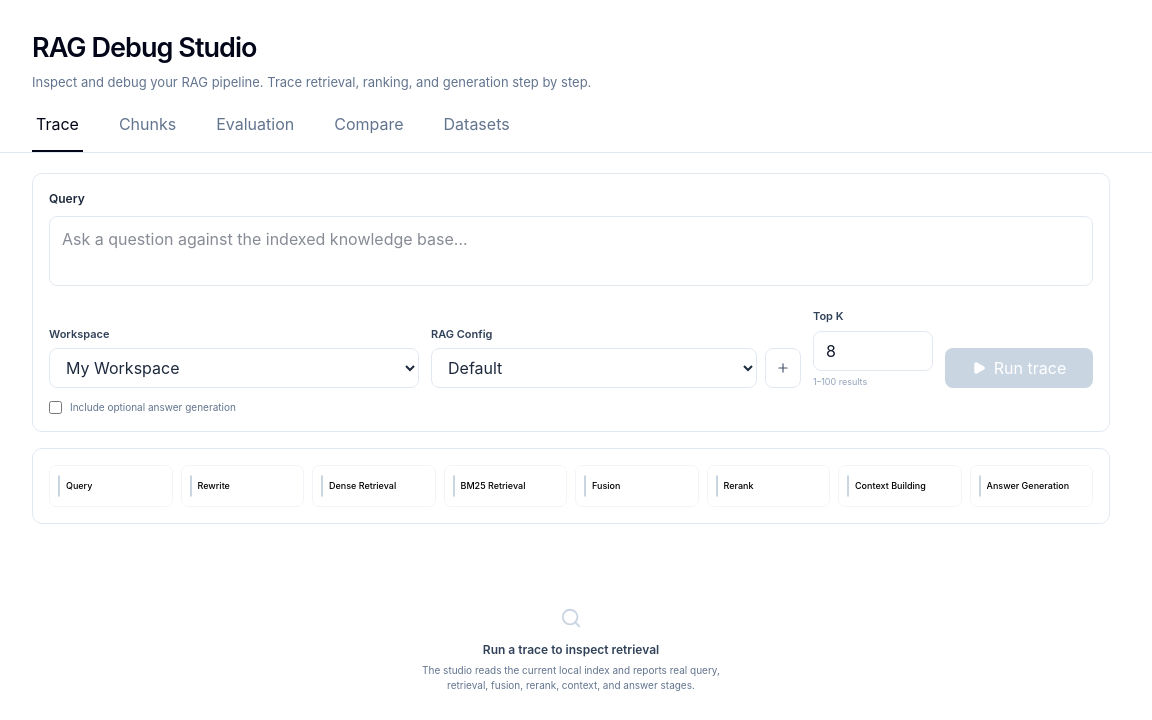
Test: RagDebugStudio › runs a comparison and renders returned query details
This screenshot has width=1152, height=720.
Click the button "Compare" at (369, 132), box x1=330 y1=112 x2=408 y2=152
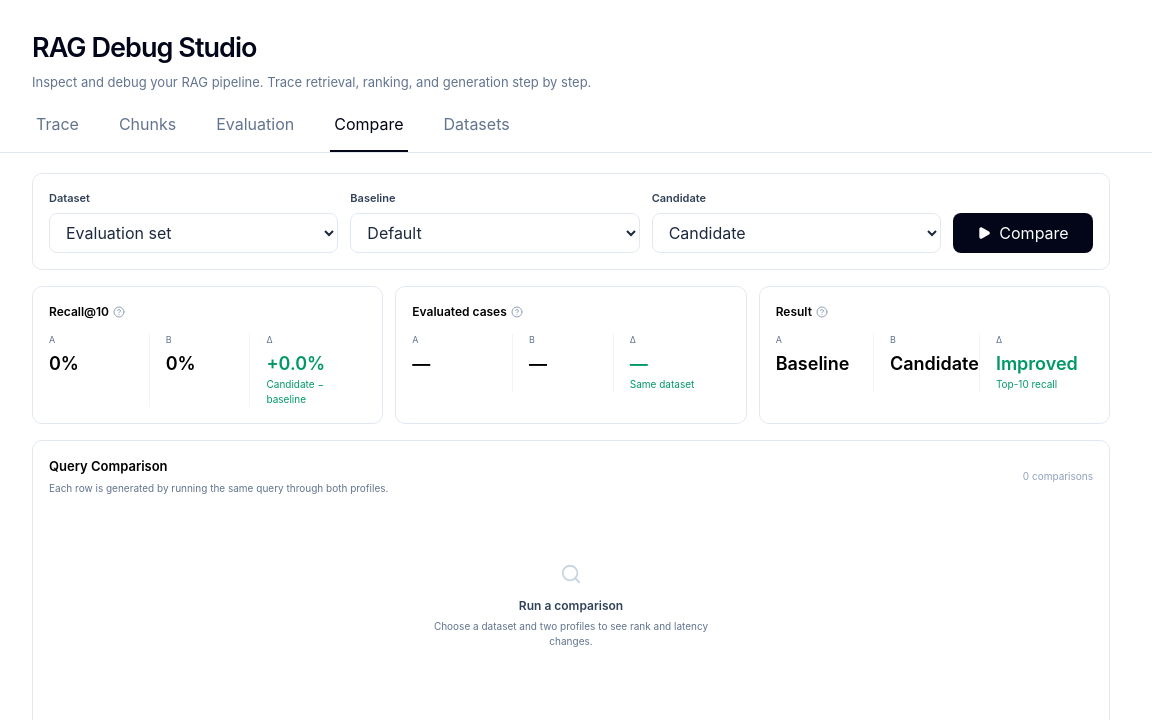
Now the 2nd button "Compare" is enabled
Now the heading "Query Comparison" is shown, box x1=49 y1=458 x2=168 y2=474
Click the 2nd button "Compare" at (1023, 232), box x1=953 y1=212 x2=1093 y2=252
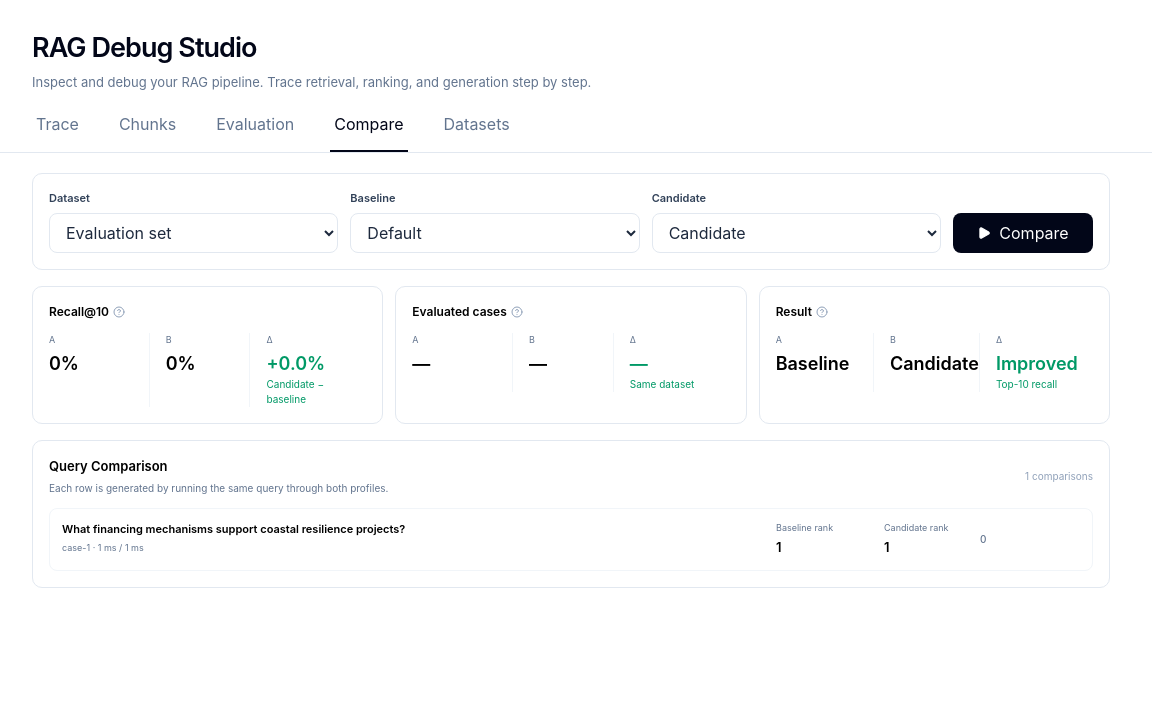
Now the text "What financing mechanisms support coastal resilience projects?" is shown, box x1=62 y1=522 x2=405 y2=536
